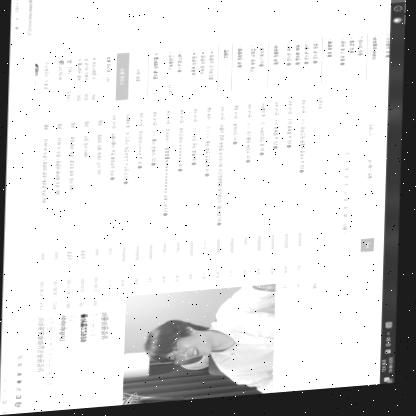streamer: (144, 287, 277, 406)
